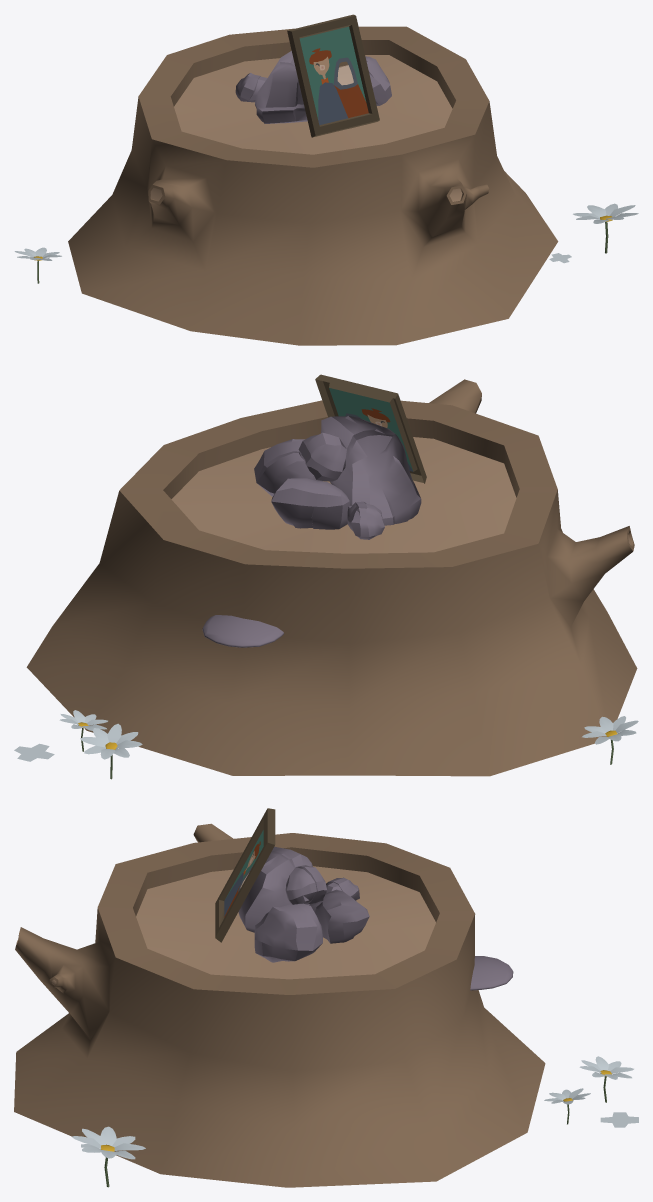
The model's file is P_stump_painting_01_LD.fbx.
3 views of the same model, one above another, from view 1: azimuth 30°, elevation 25°; view 2: azimuth 150°, elevation 25°; view 3: azimuth 270°, elevation 25° (orthographic). The views are drawn at different scales.
Parts seen in each view (by area): view 1: P_stump_painting_01; view 2: P_stump_painting_01; view 3: P_stump_painting_01.
Boxes of the visible parts, x1=… form: P_stump_painting_01: x1=14, y1=14, x2=638, y2=345; P_stump_painting_01: x1=14, y1=374, x2=638, y2=779; P_stump_painting_01: x1=14, y1=808, x2=638, y2=1187.
Size of the model in its own units: 272 by 116 by 264.
Materials: 1 (1 with a texture image).
